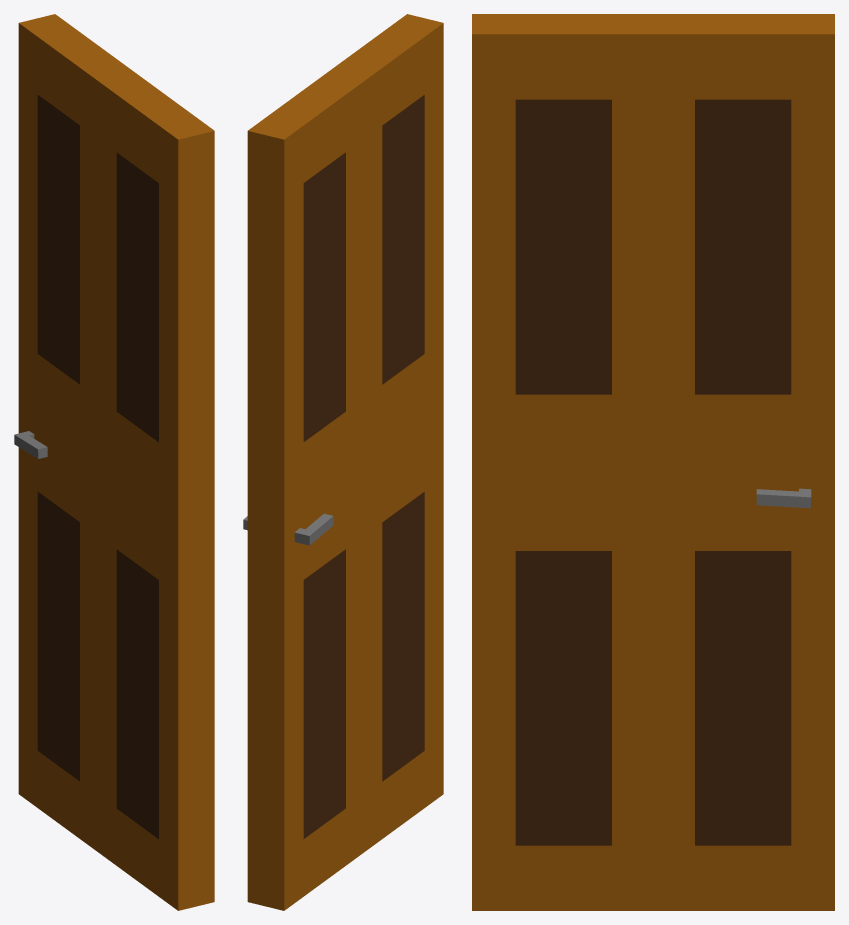
File: newDoor.fbx
3 views of the same model, side by side, from view 1: azimuth 30°, elevation 25°; view 2: azimuth 150°, elevation 25°; view 3: azimuth 270°, elevation 25° (orthographic). The views are drawn at different scales.
Visible parts, largest first — view 1: Door, Handle.002; view 2: Door, Handle.002; view 3: Door, Handle.001.
Boxes of the visible parts, x1=… form: Door: x1=18, y1=14, x2=214, y2=910; Handle.002: x1=14, y1=431, x2=47, y2=458; Door: x1=247, y1=14, x2=443, y2=910; Handle.002: x1=294, y1=513, x2=333, y2=545; Door: x1=472, y1=14, x2=834, y2=910; Handle.001: x1=756, y1=488, x2=811, y2=508.
Bounding box in the file's own units: 18.01 × 200 × 75.
